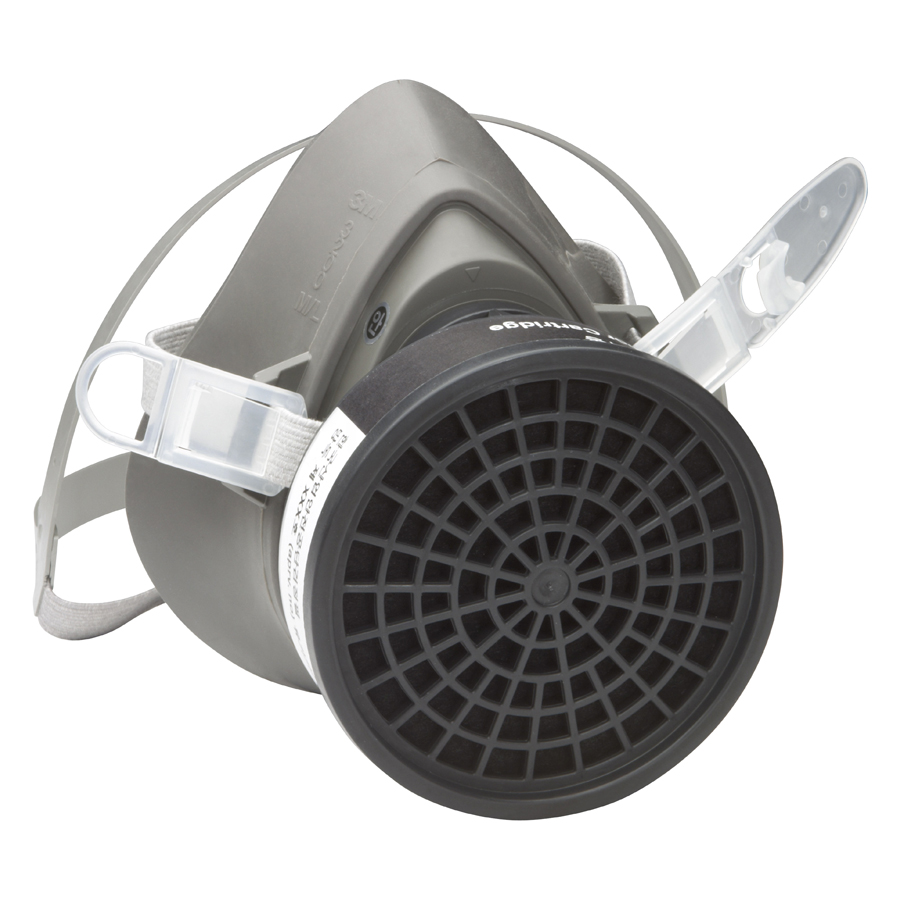3M: (347, 181, 387, 221)
